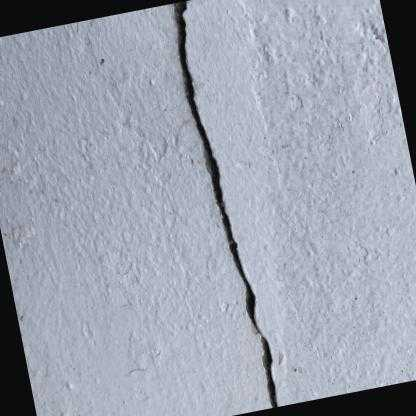crack: (171, 0, 278, 408)
